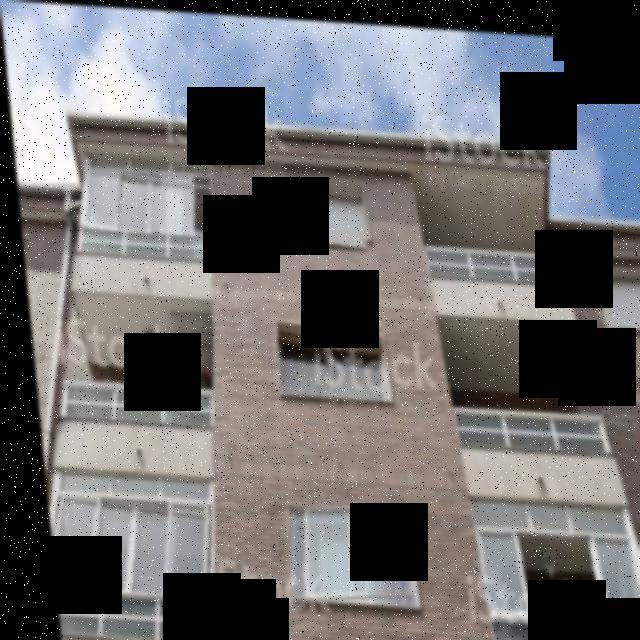Window: (460, 518, 640, 628), (38, 493, 206, 597), (275, 500, 408, 606), (72, 164, 213, 235), (268, 310, 384, 396), (262, 172, 368, 247), (588, 256, 640, 323), (635, 412, 640, 484)
